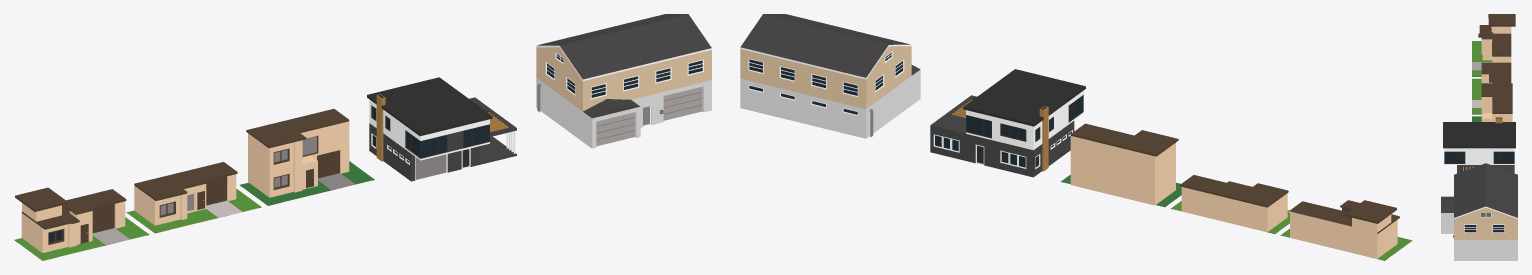
Rendered from houses.glb.
3 views of the same model, side by side, from view 1: azimuth 30°, elevation 25°; view 2: azimuth 150°, elevation 25°; view 3: azimuth 270°, elevation 25° (orthographic). The views are drawn at different scales.
Visible parts, largest first — view 1: industry-building, building-house-modern, BLDG_House_Medium_01, BLDG_House_Small_01, BLDG_House_Small_02; view 2: industry-building, building-house-modern, BLDG_House_Medium_01, BLDG_House_Small_01, BLDG_House_Small_02; view 3: industry-building, building-house-modern, BLDG_House_Small_01, BLDG_House_Medium_01, BLDG_House_Small_02.
Boxes of the visible parts, x1,y1,x2,y2 form: industry-building: (536,14,711,148); building-house-modern: (367,77,516,181); BLDG_House_Medium_01: (240,109,374,205); BLDG_House_Small_01: (14,187,149,260); BLDG_House_Small_02: (126,162,261,233); industry-building: (740,14,920,138); building-house-modern: (930,69,1085,177); BLDG_House_Medium_01: (1061,123,1181,207); BLDG_House_Small_01: (1280,200,1412,260); BLDG_House_Small_02: (1171,175,1289,233); industry-building: (1441,163,1517,260); building-house-modern: (1443,117,1515,173); BLDG_House_Small_01: (1472,14,1515,76); BLDG_House_Medium_01: (1472,83,1512,121); BLDG_House_Small_02: (1472,62,1511,114).
Bounding box in the file's own units: 81.34 × 9.42 × 12.
1 material, 1 textured.
